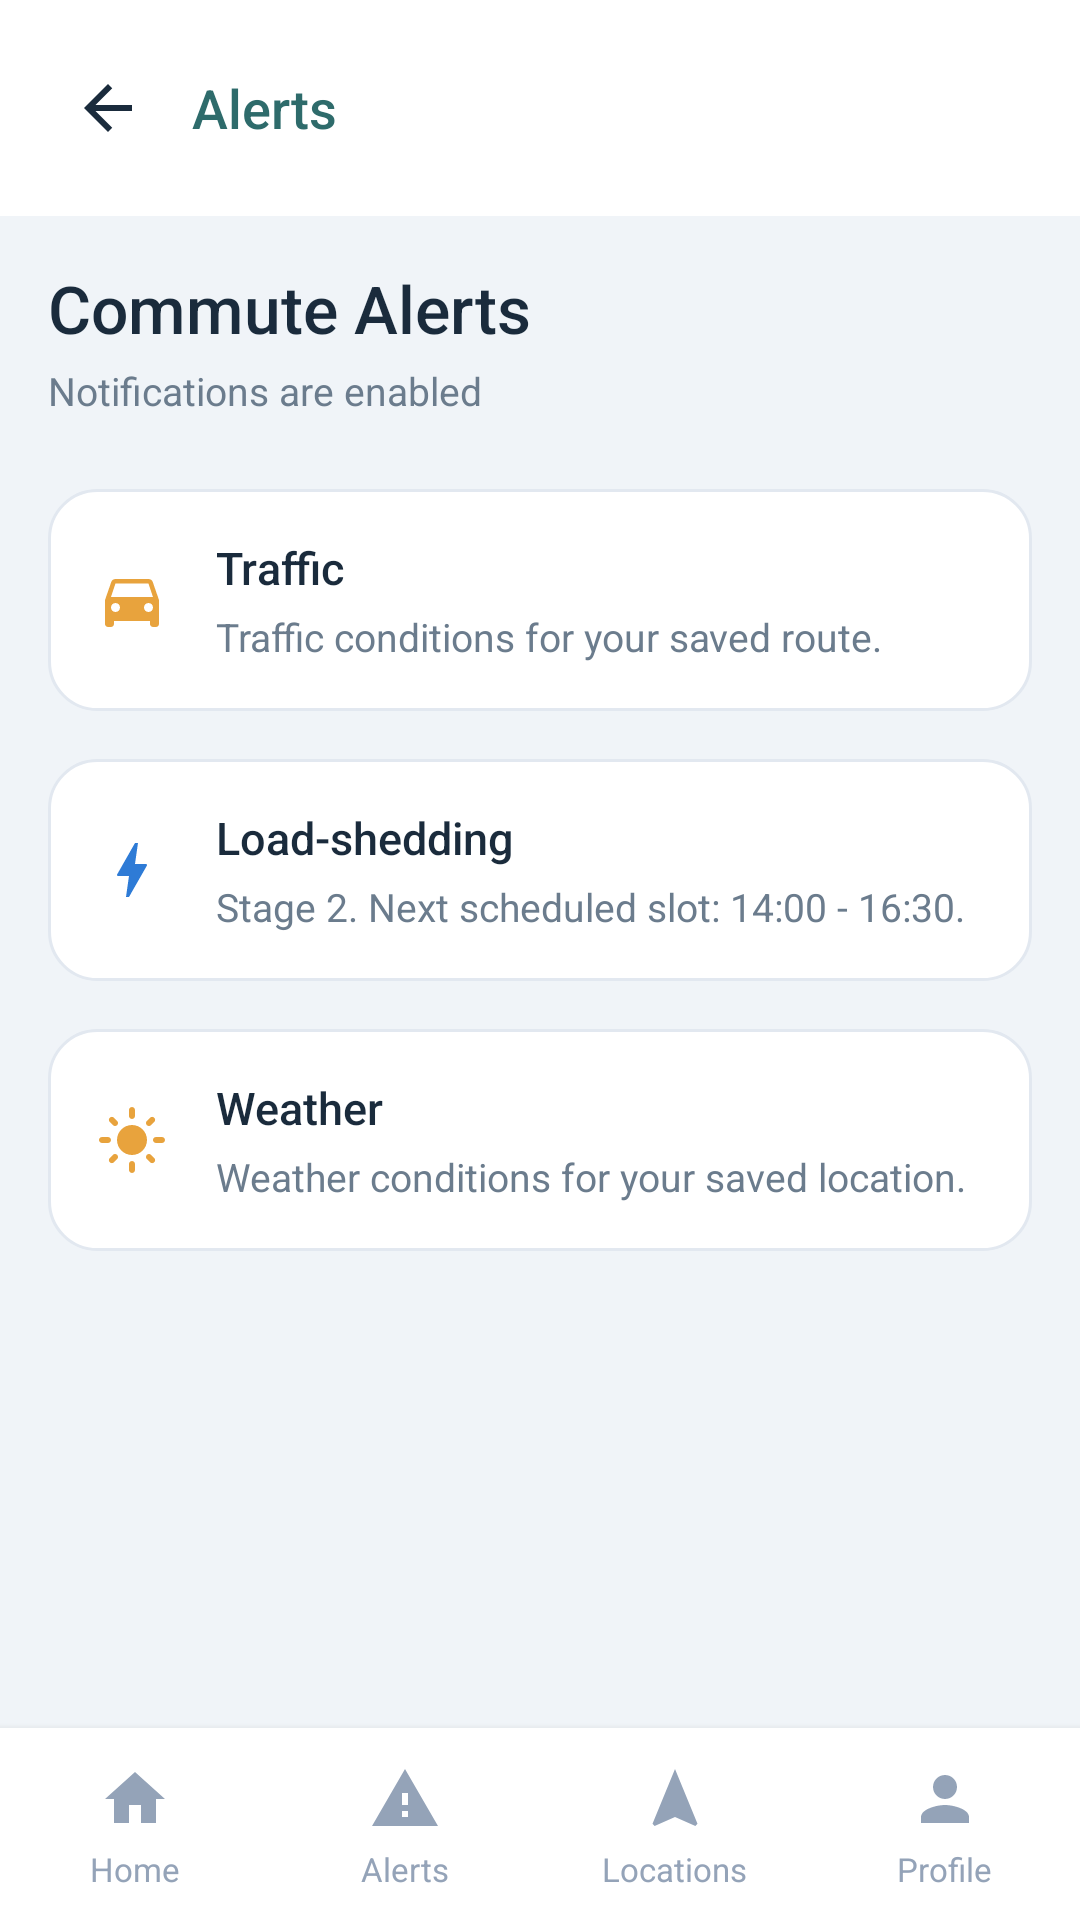

Screen size 1080x1920. Icon name, then its box in pixels as (x1, y1, x2, y2):
Back: (84, 84, 132, 132)
bolt: (117, 843, 147, 897)
directions car: (105, 579, 159, 627)
navigation: (652, 1770, 698, 1826)
person: (921, 1775, 969, 1823)
sunny: (99, 1107, 165, 1173)
warning: (372, 1769, 438, 1826)
